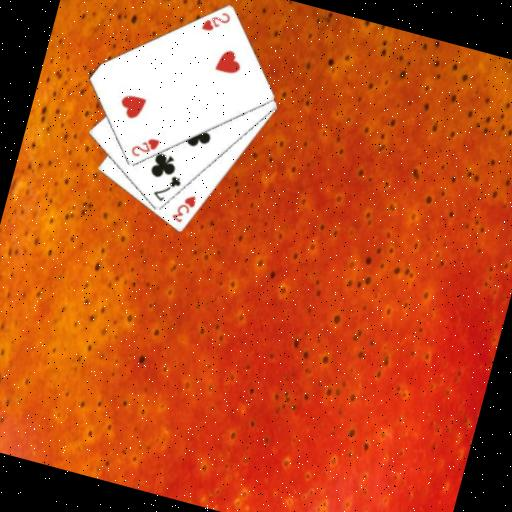2H: (126, 130, 162, 164), (197, 5, 233, 38)
3H: (167, 188, 199, 227)
7C: (148, 169, 184, 207)
